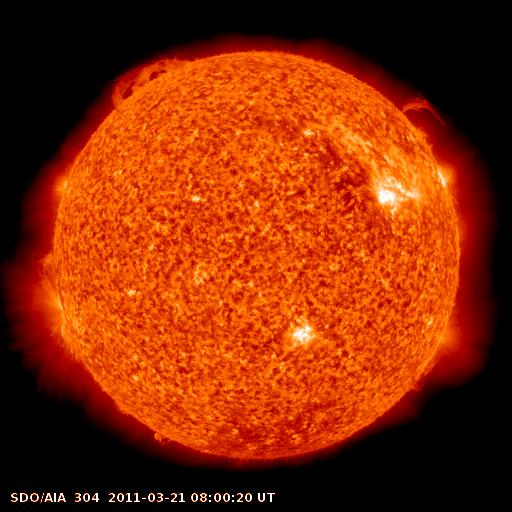prominence: (103, 46, 202, 112), (389, 74, 461, 153), (32, 243, 71, 292), (402, 353, 440, 398), (140, 423, 182, 455)
